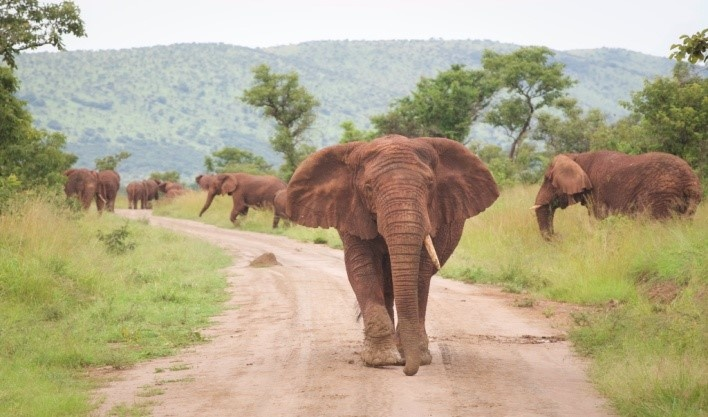elephant: (282, 125, 504, 383), (526, 148, 703, 246), (193, 165, 290, 234), (58, 165, 105, 217), (94, 161, 120, 216), (144, 176, 167, 210), (125, 179, 143, 212)
